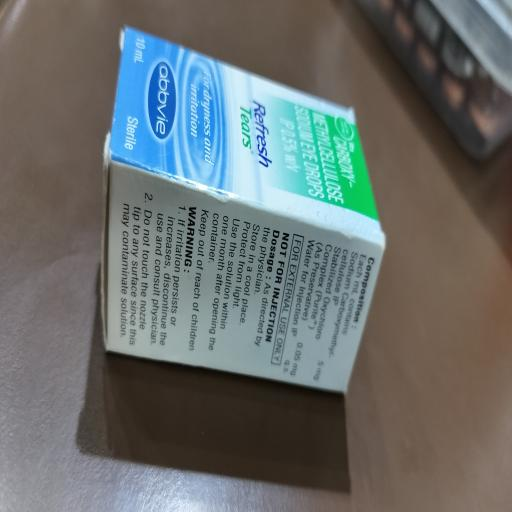eye-drops: (272, 97, 360, 220), (146, 46, 180, 149)
medicine: (124, 22, 358, 411)
